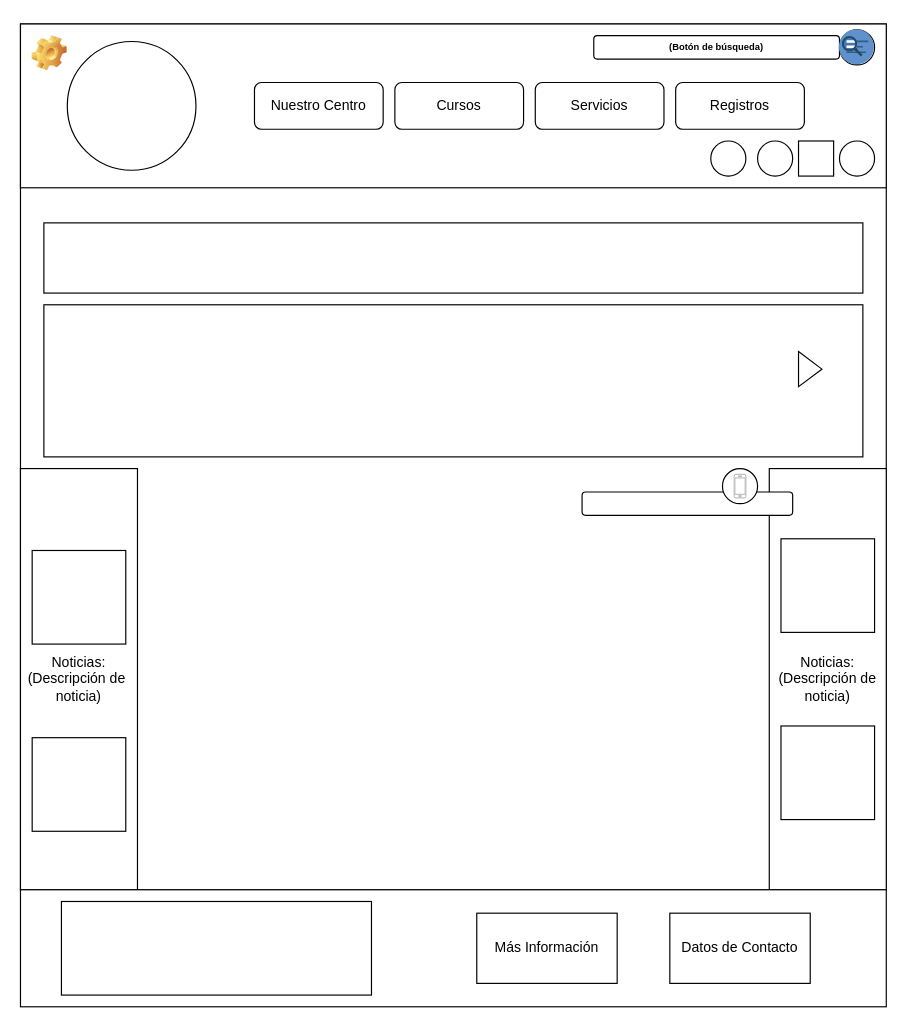
The diagram is 907 pixels wide and 1027 high, and some of its shapes have lost their labels. The centre of each missing label's shape, as x and y in pixels:
"LOG" belongs at point (131, 105).
"LOGOS de PATROCINADORES" belongs at point (215, 947).
"TÍTULO" belongs at point (453, 257).
